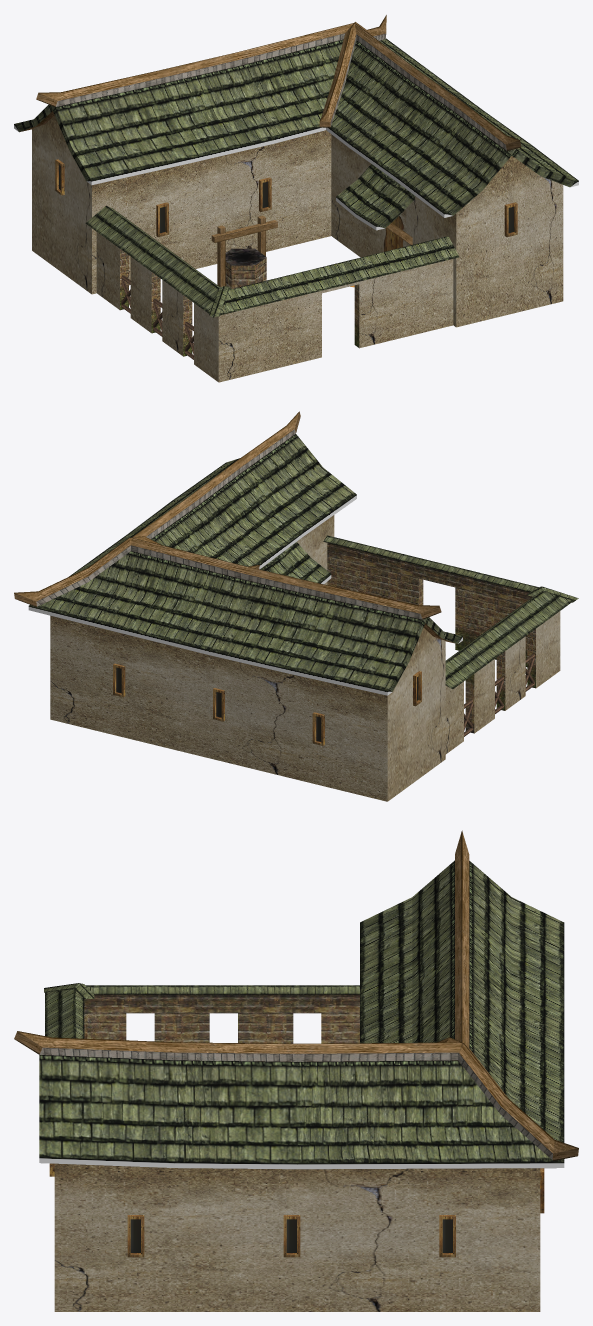
Rendered from chin_house_a.dae.
The picture shows the model from 3 angles, top to bottom: view 1: azimuth 30°, elevation 25°; view 2: azimuth 150°, elevation 25°; view 3: azimuth 270°, elevation 25°; orthographic projection. The views are drawn at different scales.
Parts seen in each view (by area): view 1: house_001; view 2: house_001; view 3: house_001.
Part boxes in pixels (<box>): house_001: <box>14,15,578,382</box>; house_001: <box>14,411,578,801</box>; house_001: <box>14,830,578,1311</box>.
Bounding box in the file's own units: 19.52 × 18.37 × 9.86.
